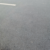others: (1, 1, 32, 42)
